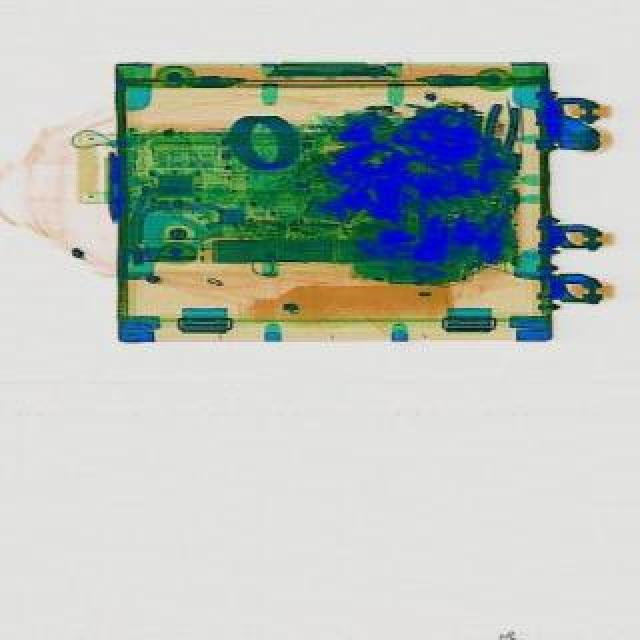wrench: (468, 104, 520, 198)
